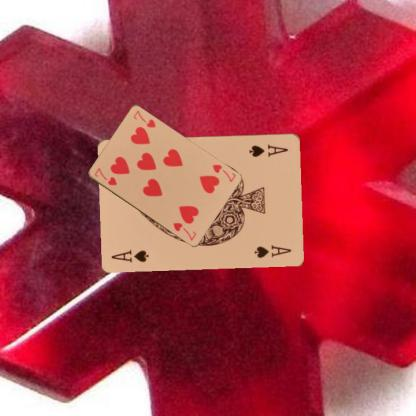7h: (91, 165, 118, 187), (209, 162, 237, 183)
As: (109, 247, 150, 264), (247, 142, 290, 158)
